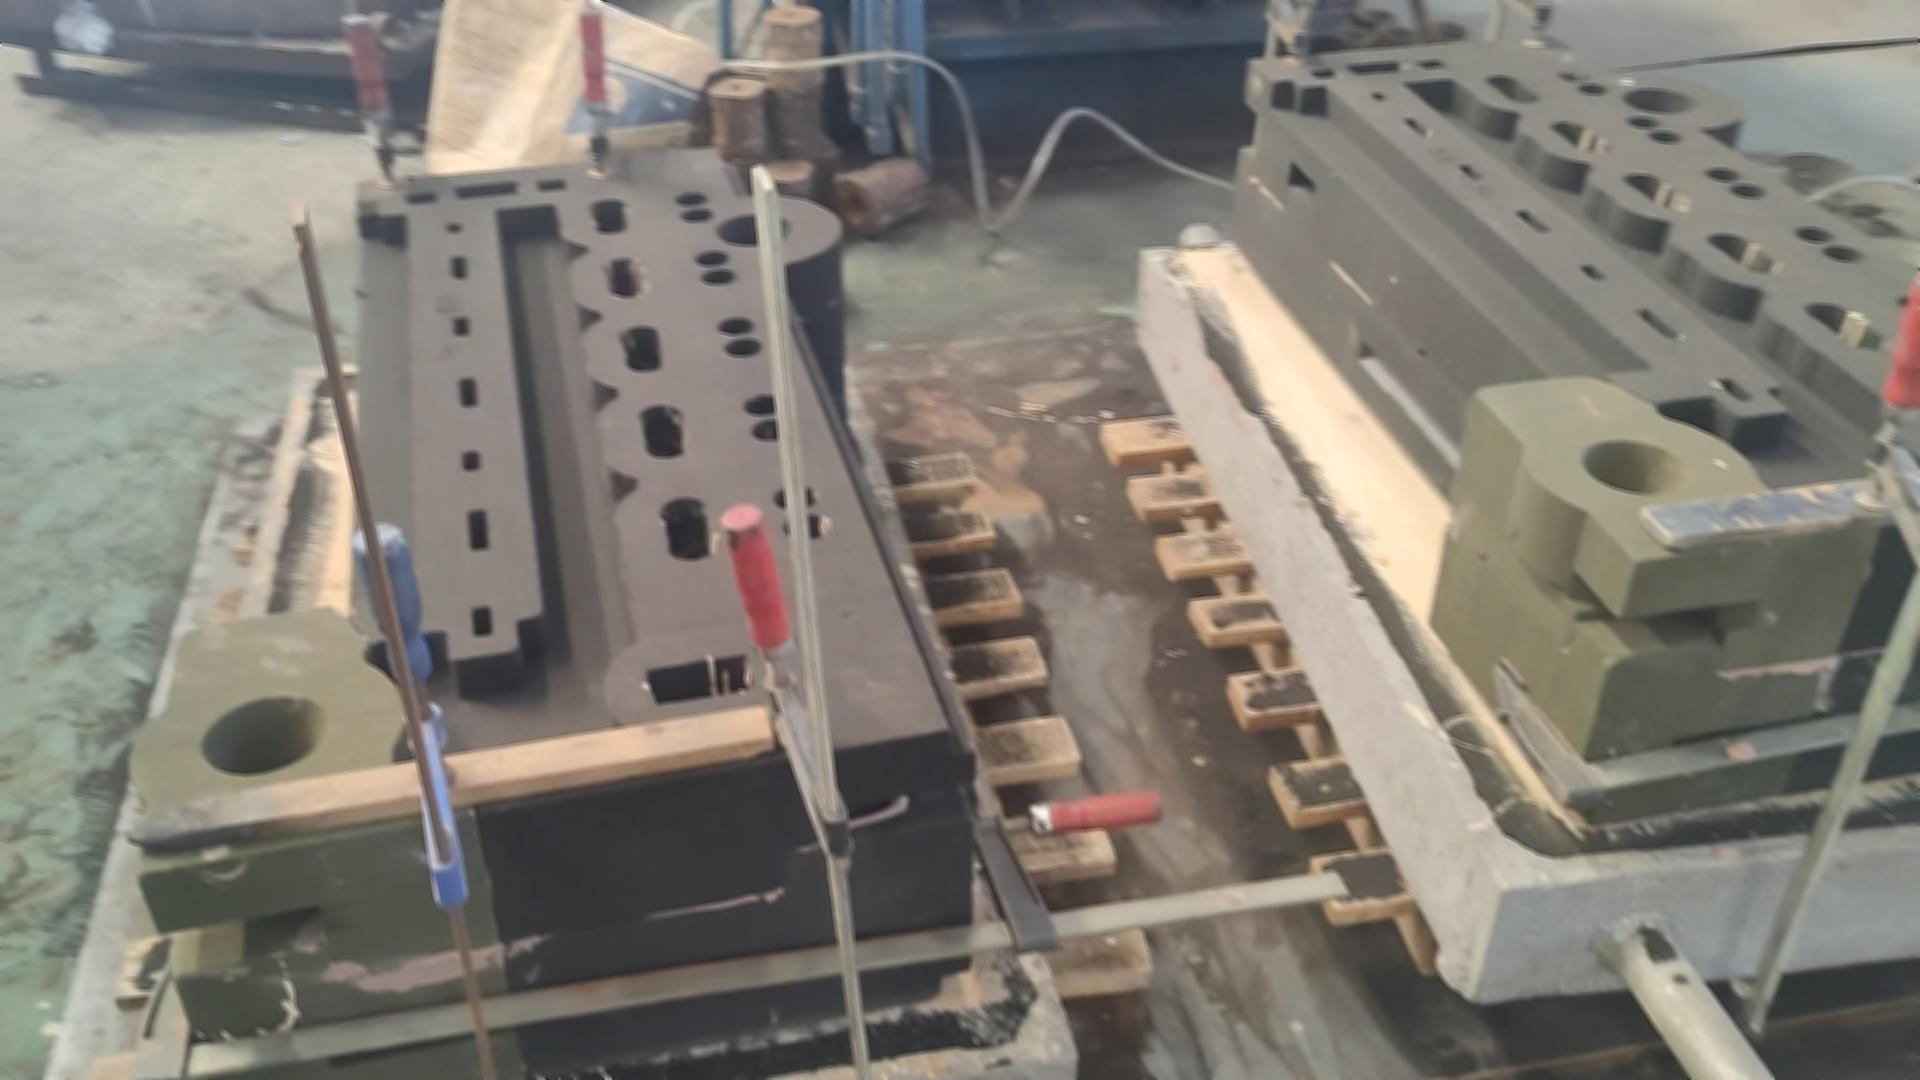pouring hole: (198, 694, 328, 777), (1582, 440, 1688, 495), (716, 214, 794, 247), (1621, 88, 1698, 113), (1427, 20, 1470, 40), (1331, 22, 1369, 44), (1382, 22, 1420, 40), (1357, 7, 1396, 22), (1320, 1, 1360, 12)
